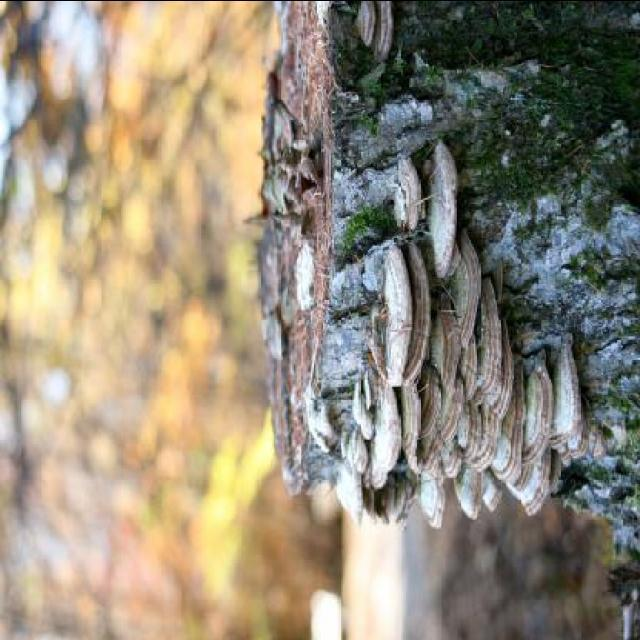Mushroom: (351, 121, 563, 550), (354, 1, 396, 64)
